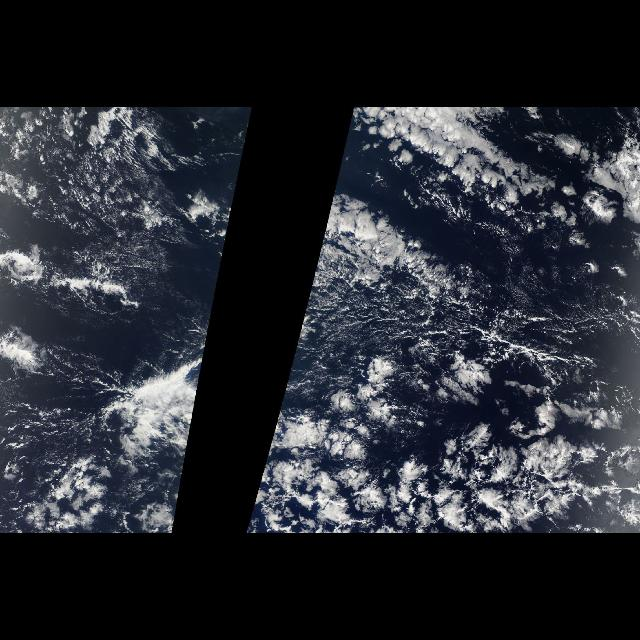Flower: (282, 367, 640, 533)
Sugar: (294, 276, 558, 360), (2, 110, 168, 234)
